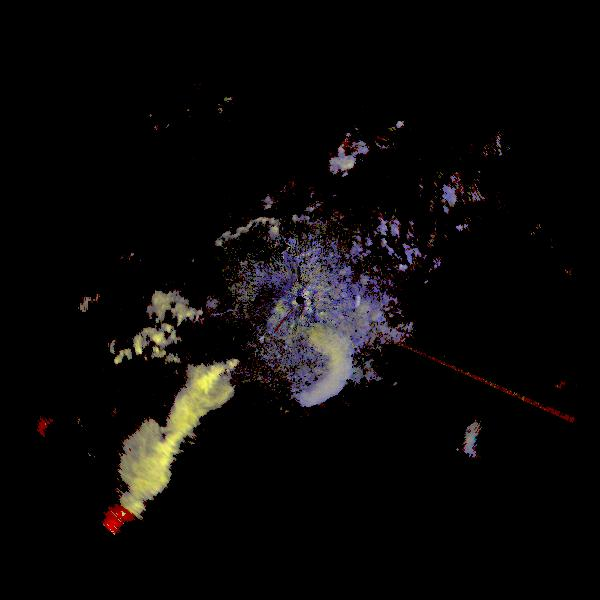roost: (254, 313, 359, 418), (462, 417, 513, 468)
